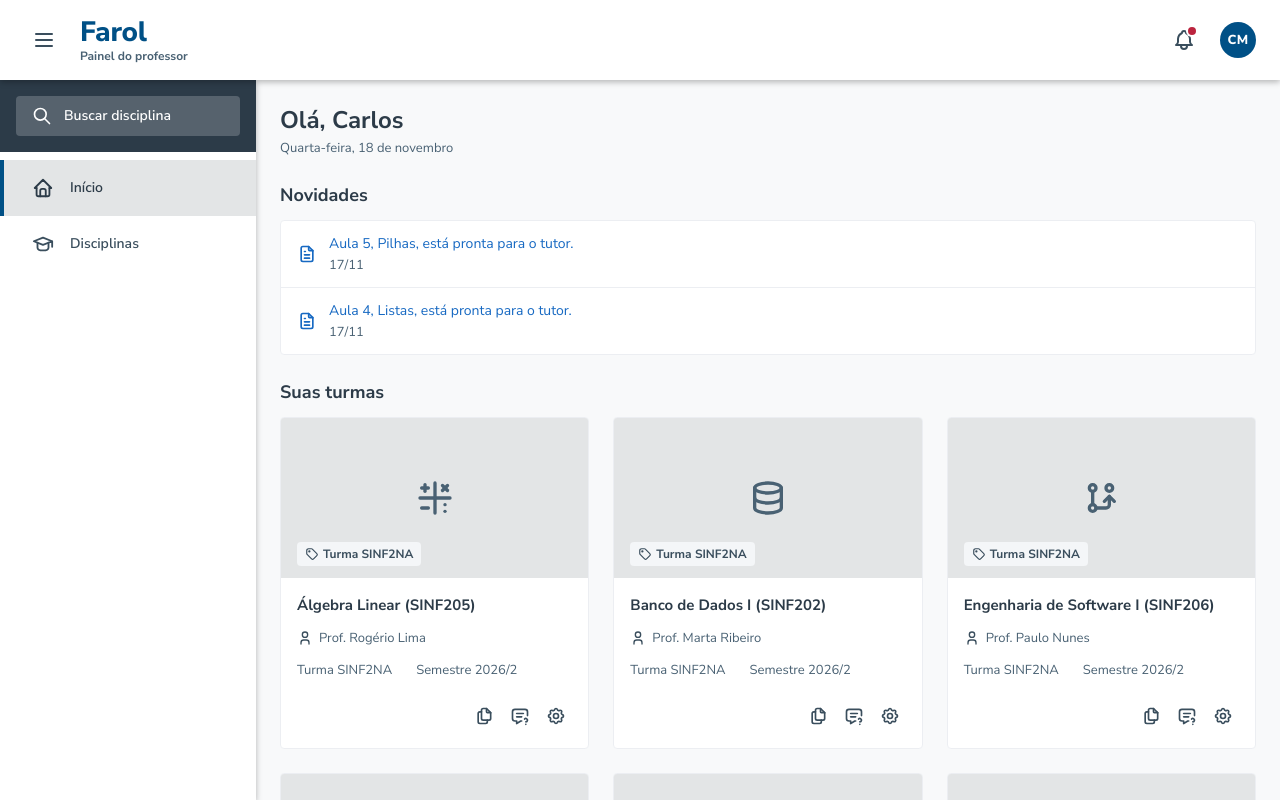
Test case: sino de notificações (MAT-T25) › Esc fecha a lista e devolve o foco ao sino (ACE-T90)
Click the button named "Notificações: 1 não lida" at point(1184, 40), box [1164,20,1204,60]
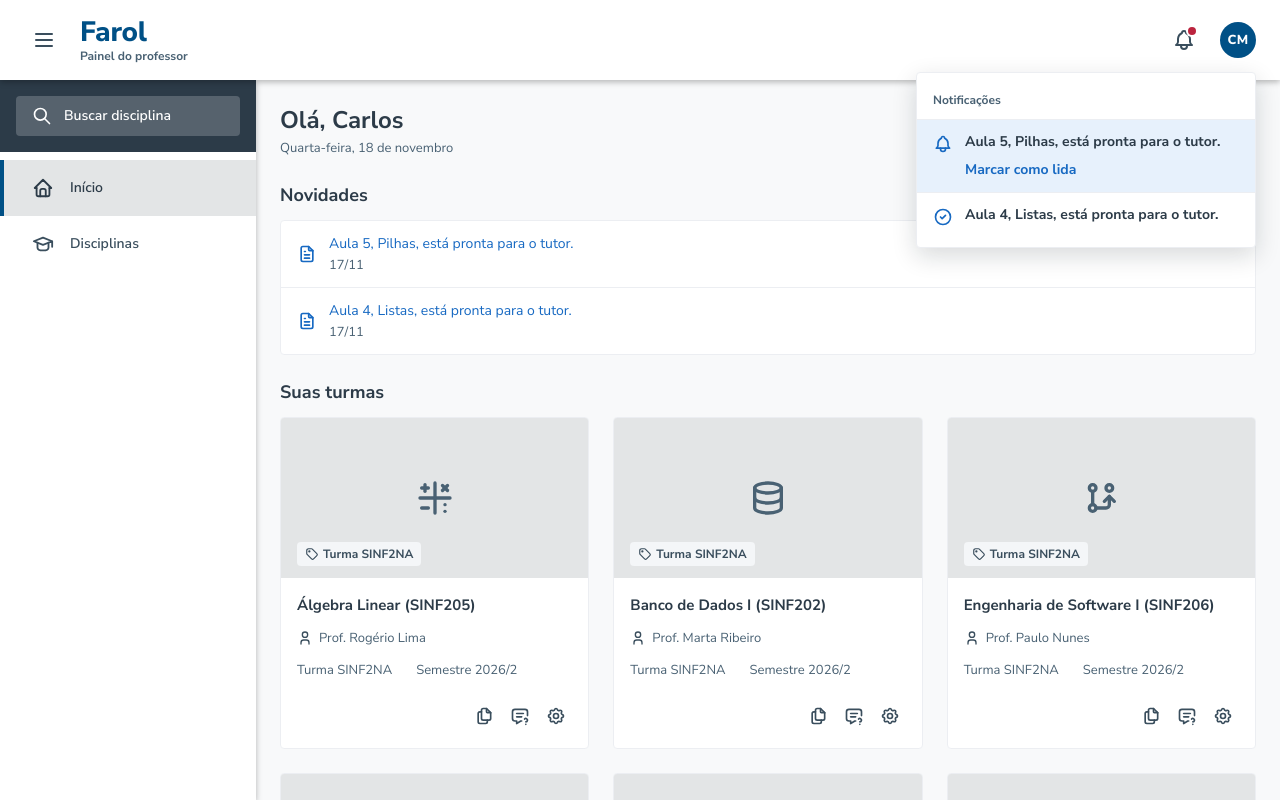
Press Escape in the list named "Notificações", box [917,119,1255,239]
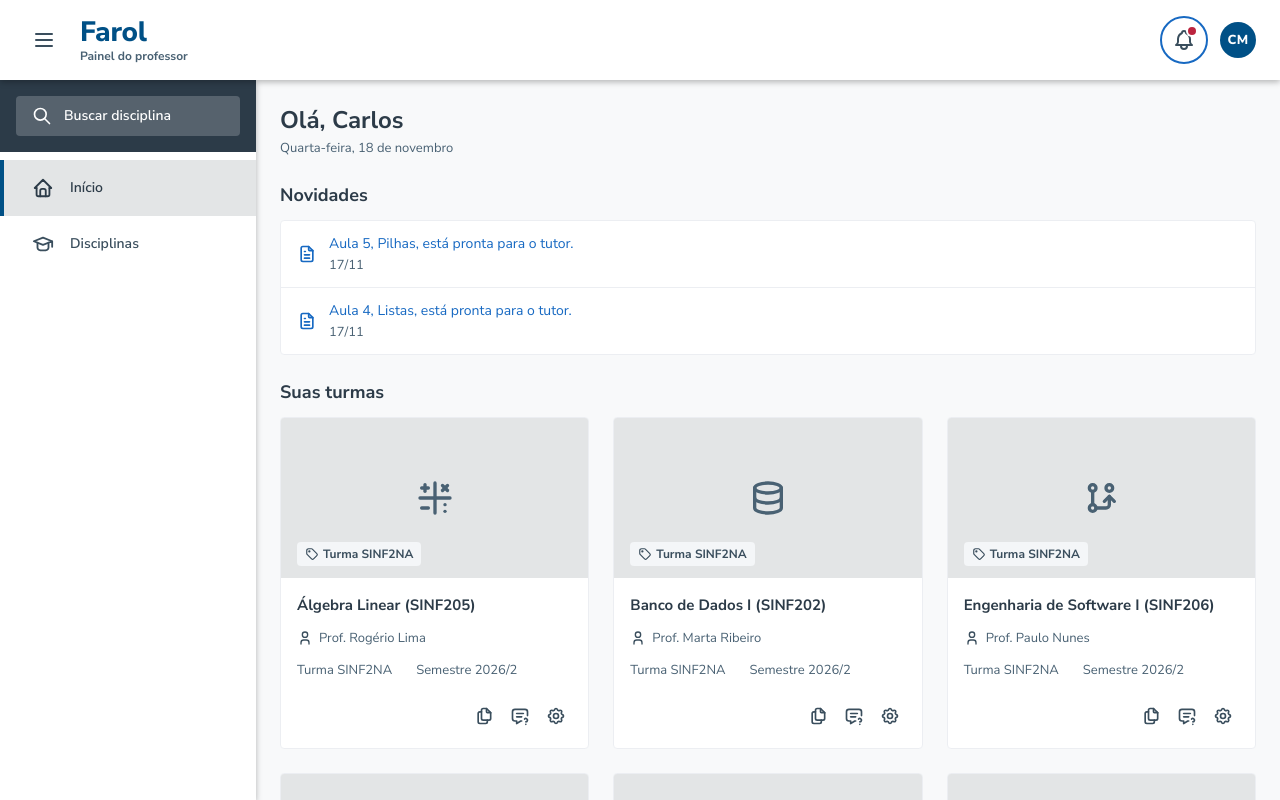
Expected: the text "Notificações" is gone
Expected: the button named "Notificações: 1 não lida" is collapsed, [1164,20,1204,60]
